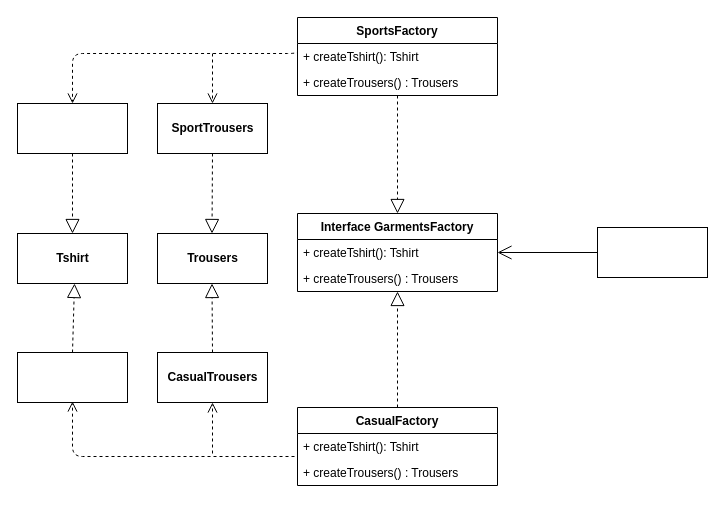
This 725x506 diagram has some shape labels left out. Each missing label, with the centre of its shape:
"CasualTshirt" goes at point (72, 377).
"Client" goes at point (652, 252).
"SportTshirt" goes at point (72, 128).
